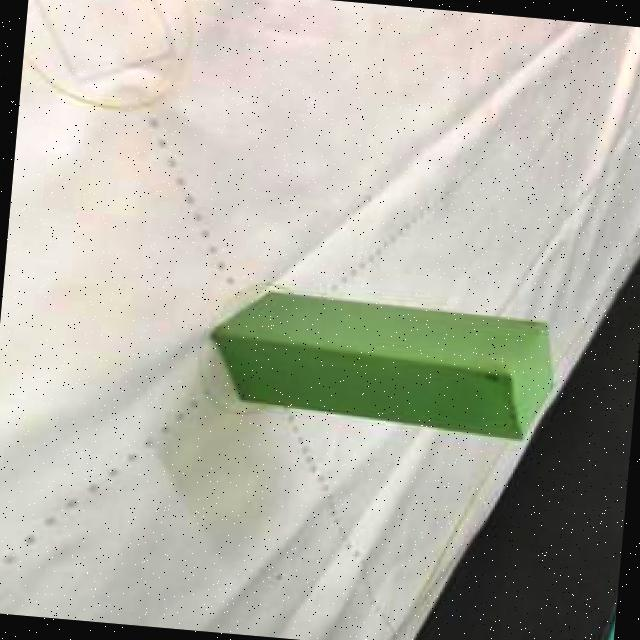greenbox: (202, 282, 564, 446)
